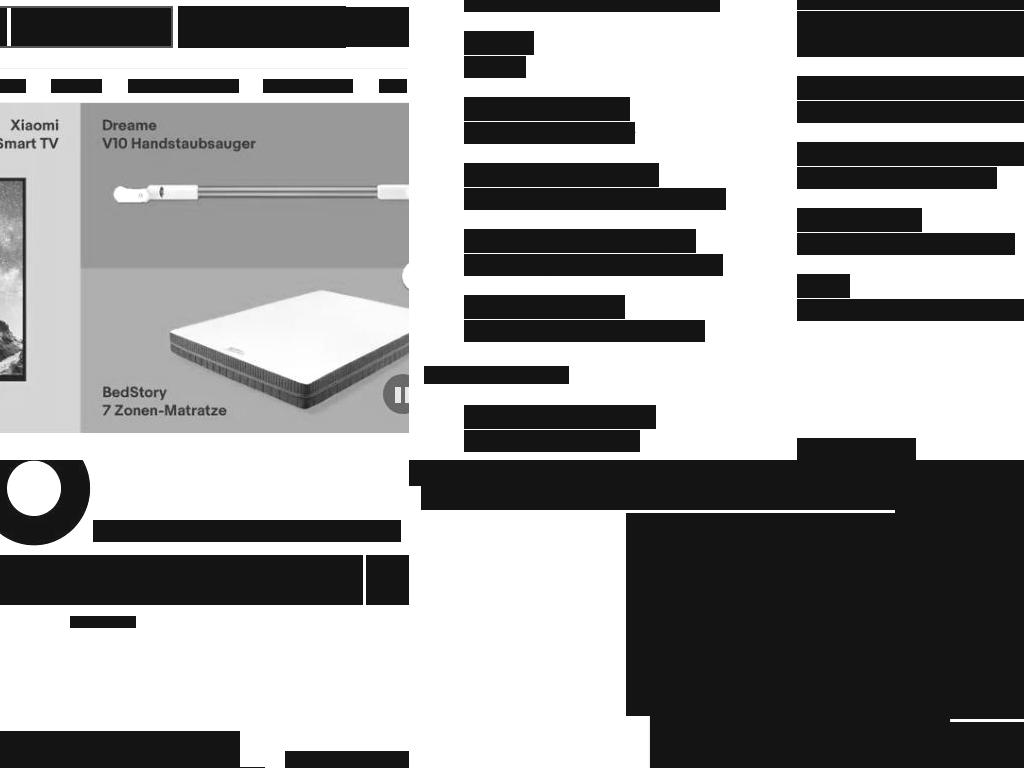button: (650, 619, 950, 768), (99, 555, 205, 605), (0, 555, 99, 605), (275, 555, 363, 605), (205, 555, 275, 605), (755, 677, 845, 713), (346, 7, 409, 47), (366, 555, 409, 605), (285, 751, 409, 768)
field: (178, 6, 346, 48), (11, 8, 171, 46)
heading: (0, 731, 240, 768)
image: (650, 619, 950, 768), (626, 513, 832, 716), (831, 513, 1024, 719), (895, 460, 1024, 555), (421, 460, 627, 510), (626, 460, 832, 510), (831, 460, 1024, 510), (831, 722, 1024, 768), (285, 751, 409, 768)
link: (464, 229, 696, 253), (797, 76, 1024, 100), (797, 142, 1024, 166), (464, 163, 659, 187), (464, 405, 656, 429), (464, 97, 630, 121), (464, 295, 625, 319), (797, 208, 922, 232), (797, 438, 916, 460), (797, 0, 1024, 10), (481, 0, 659, 12), (464, 31, 534, 55), (128, 79, 239, 93), (797, 274, 850, 298), (263, 79, 353, 93), (51, 79, 102, 93), (0, 79, 26, 93)
text: (409, 460, 895, 486), (797, 11, 1024, 57), (93, 520, 401, 542), (464, 188, 726, 210), (464, 254, 723, 276), (464, 320, 705, 342), (797, 101, 1024, 123), (797, 299, 1024, 321), (797, 233, 1015, 255), (797, 167, 997, 189), (464, 430, 640, 452), (464, 122, 635, 144), (424, 366, 569, 384), (464, 56, 526, 78), (771, 686, 829, 704), (70, 616, 136, 628), (658, 0, 720, 12), (379, 79, 407, 93), (464, 0, 482, 12)
